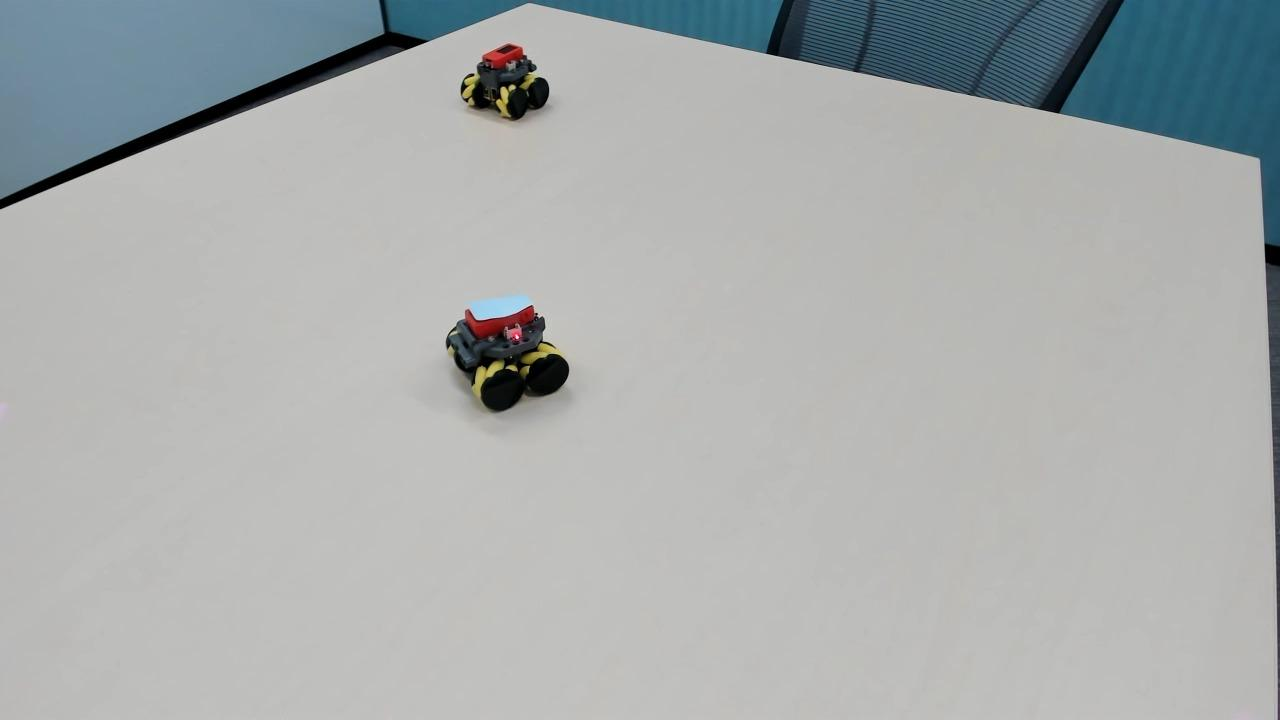B-Robot: (436, 273, 581, 426)
R-Robot: (445, 34, 576, 138)
